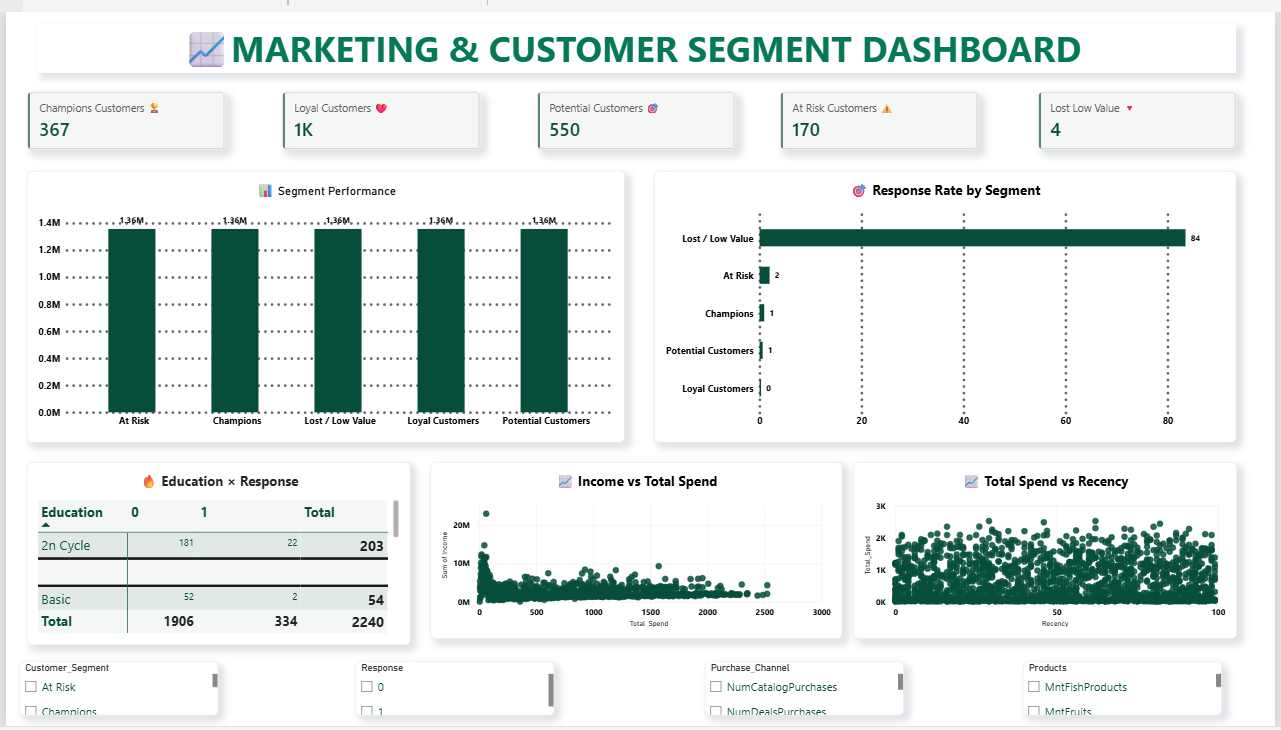

The page's visual inventory and layout, read from the dashboard file:
{"tool":"powerbi","page":{"name":"📈 Marketing Dashboard","canvas":[1920,1080],"ordinal":1},"visuals":[{"type":"textbox","box":[47.7,19.1,1813.3,74],"z":0},{"type":"cardVisual","fields":{"Data":["Business Hypotheses.Champions Customers 🏆"]},"box":[31,119.3,300.6,88.3],"z":1},{"type":"cardVisual","fields":{"Data":["Business Hypotheses.Loyal Customers ❤️"]},"box":[417.5,119.3,300.6,88.3],"z":2},{"type":"cardVisual","fields":{"Data":["Business Hypotheses.Potential Customers 🎯"]},"box":[804.1,119.3,300.6,88.3],"z":3},{"type":"cardVisual","fields":{"Data":["Business Hypotheses.At Risk Customers ⚠️"]},"box":[1171.5,119.3,300.6,88.3],"z":4},{"type":"cardVisual","fields":{"Data":["Business Hypotheses.Lost Low Value 🔻"]},"box":[1560.4,119.3,300.6,88.3],"z":5},{"type":"barChart","title":" 🎯 Response Rate by Segment","fields":{"Category":["RFM_Customer.Customer_Segment"],"Y":["Business Hypotheses.Response Rate 2"]},"box":[980.6,241,880.4,410.4],"z":6},{"type":"clusteredColumnChart","title":"📊 Segment Performance","fields":{"Category":["RFM_Customer.Customer_Segment"],"Y":["Sum(Cleaned Data.Total_Spend)"]},"box":[31,241,904.3,410.4],"z":7},{"type":"scatterChart","title":" 📈 Total Spend vs Recency","fields":{"X":["Cleaned Data.Recency"],"Y":["Cleaned Data.Total_Spend"]},"box":[1281.2,680,579.8,267.2],"z":8},{"type":"pivotTable","title":"🔥 Education × Response  ","fields":{"Columns":["Superstore Marketing Campaign D.Response"],"Rows":["Superstore Marketing Campaign D.Education"],"Values":["Business Hypotheses.Customer Count"]},"box":[31,680,579.8,276.8],"z":9},{"type":"scatterChart","title":"📈 Income vs Total Spend","fields":{"X":["Cleaned Data.Total_Spend"],"Y":["Sum(Superstore Marketing Campaign D.Income)"]},"box":[641.8,680,622.7,267.2],"z":10},{"type":"slicer","fields":{"Values":["RFM_Customer.Customer_Segment"]},"box":[21.5,983,300.6,81.1],"z":11},{"type":"slicer","fields":{"Values":["Cleaned Data.Response"]},"box":[529.7,983,300.6,81.1],"z":12},{"type":"slicer","fields":{"Values":["Superstore Marketing Campaign D.Purchase_Channel"]},"box":[1057,983,300.6,81.1],"z":13},{"type":"slicer","fields":{"Values":["Superstore Marketing Campaign D.Products"]},"box":[1538.9,983,300.6,81.1],"z":14}]}

Visuals, with their boxes in screenshot pixels (x1, y1, x2, y2), scaled from the page's 1920x1080 canvas onto the 1281x730 screenshot:
textbox: detection(32, 13, 1242, 63)
cardVisual - Business Hypotheses.Champions Customers 🏆: detection(21, 81, 221, 140)
cardVisual - Business Hypotheses.Loyal Customers ❤️: detection(279, 81, 479, 140)
cardVisual - Business Hypotheses.Potential Customers 🎯: detection(536, 81, 737, 140)
cardVisual - Business Hypotheses.At Risk Customers ⚠️: detection(782, 81, 982, 140)
cardVisual - Business Hypotheses.Lost Low Value 🔻: detection(1041, 81, 1242, 140)
" 🎯 Response Rate by Segment" barChart: detection(654, 163, 1242, 440)
"📊 Segment Performance" clusteredColumnChart: detection(21, 163, 624, 440)
" 📈 Total Spend vs Recency" scatterChart: detection(855, 460, 1242, 640)
"🔥 Education × Response  " pivotTable: detection(21, 460, 408, 647)
"📈 Income vs Total Spend" scatterChart: detection(428, 460, 844, 640)
slicer - RFM_Customer.Customer_Segment: detection(14, 664, 215, 719)
slicer - Cleaned Data.Response: detection(353, 664, 554, 719)
slicer - Superstore Marketing Campaign D.Purchase_Channel: detection(705, 664, 906, 719)
slicer - Superstore Marketing Campaign D.Products: detection(1027, 664, 1227, 719)
